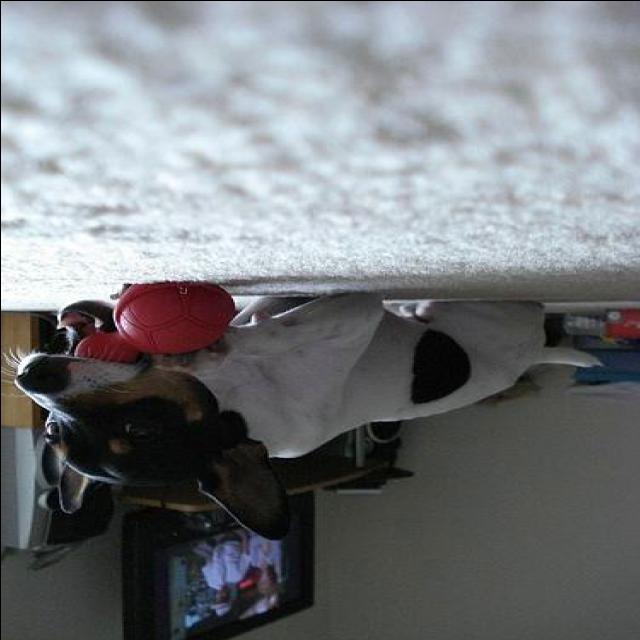toy_terrier: (3, 294, 606, 536)
